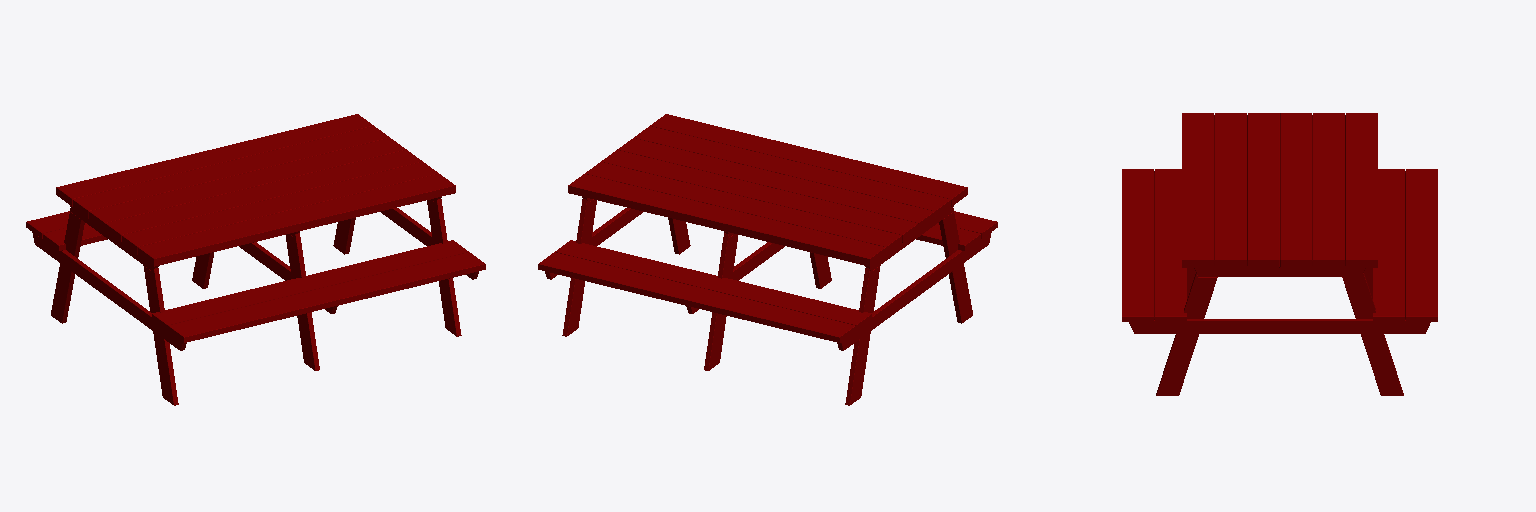
The model's file is picnic_bench.obj.
3 views of the same model, side by side, from view 1: azimuth 30°, elevation 25°; view 2: azimuth 150°, elevation 25°; view 3: azimuth 270°, elevation 25° (orthographic).
Parts seen in each view (by area): view 1: Rectangle073; view 2: Rectangle073; view 3: Rectangle073.
Part boxes in pixels (x1,y1,x2,y2): Rectangle073: (26, 114, 485, 405); Rectangle073: (538, 114, 997, 405); Rectangle073: (1122, 113, 1437, 395).
Size of the model in its own units: 2.7 by 1.19 by 2.45.